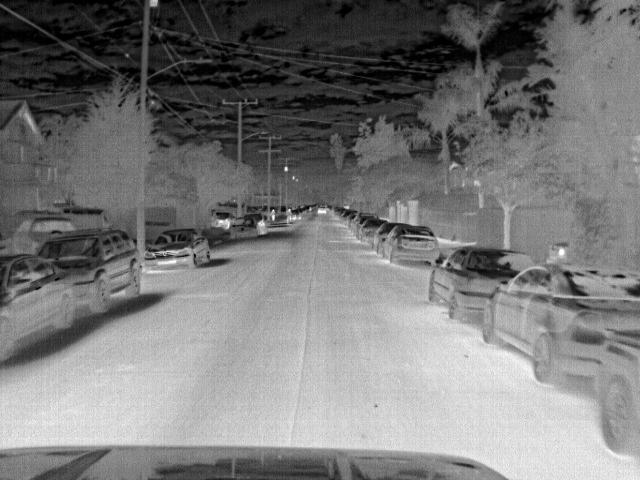car: (480, 265, 639, 388), (38, 229, 142, 317), (426, 245, 536, 324), (2, 253, 80, 360), (595, 320, 635, 456), (144, 227, 213, 270), (382, 223, 438, 265), (28, 218, 76, 244), (370, 222, 399, 251), (360, 217, 393, 242), (230, 218, 258, 240), (245, 213, 267, 235), (211, 211, 233, 230), (338, 209, 357, 224), (315, 204, 329, 216)
person: (285, 205, 294, 225), (268, 206, 277, 224)
